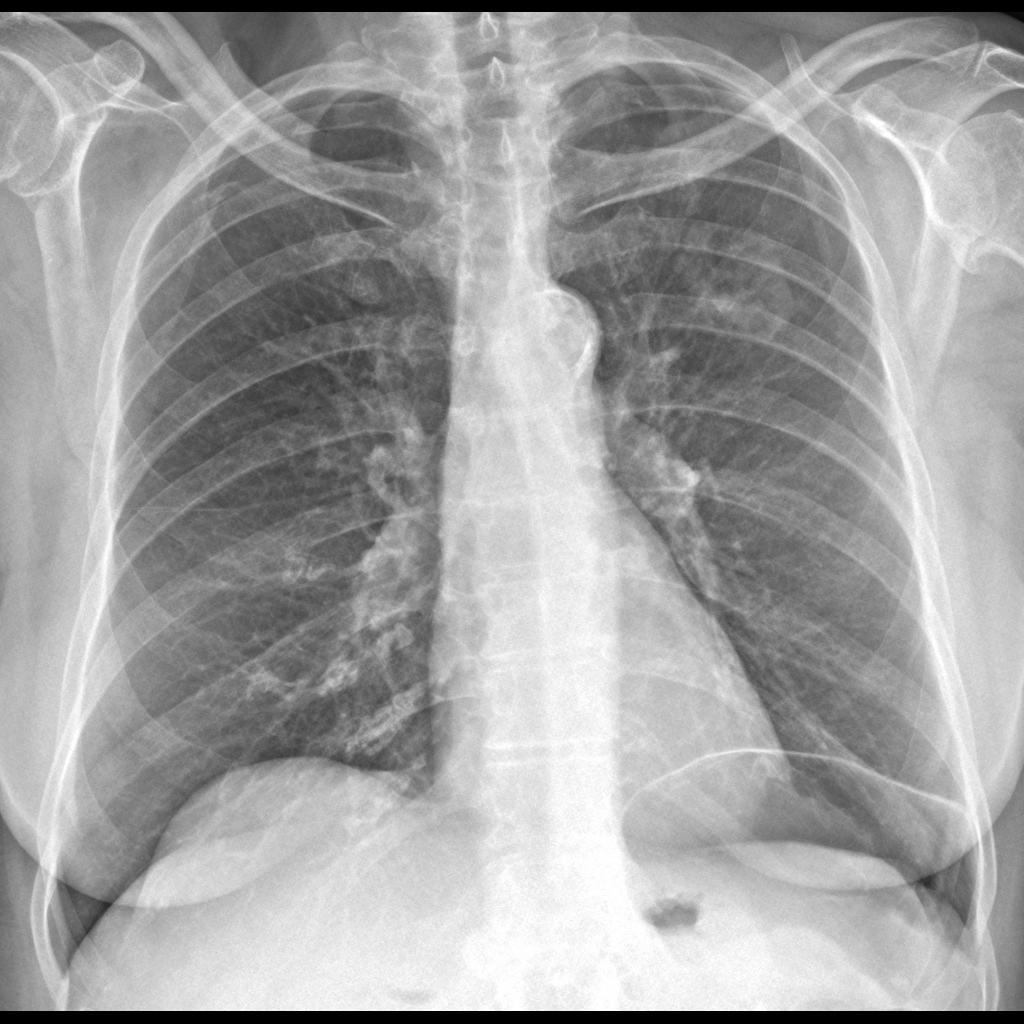Nodule: (681, 224, 803, 350)
